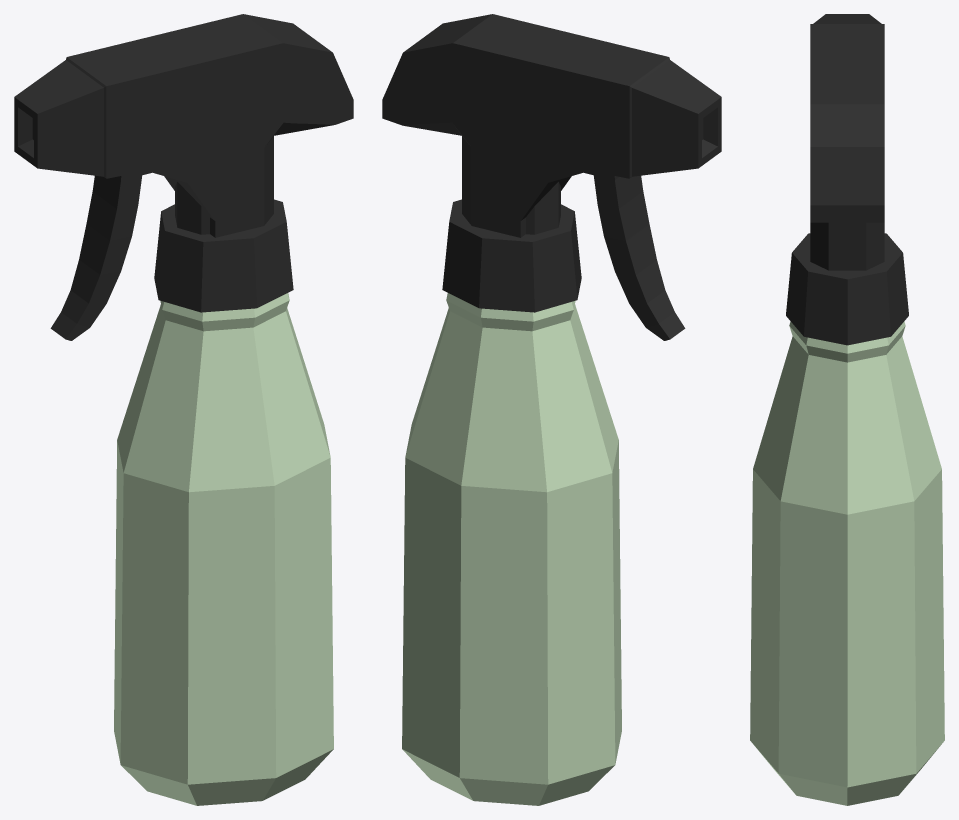
File: SPRAYCAN.fbx
The picture shows the model from 3 angles, left to right: view 1: azimuth 30°, elevation 25°; view 2: azimuth 150°, elevation 25°; view 3: azimuth 270°, elevation 25°; orthographic projection. The views are drawn at different scales.
Visible parts, largest first — view 1: SprayBottle, SprayBottle.001; view 2: SprayBottle, SprayBottle.001; view 3: SprayBottle.
Boxes of the visible parts, x1=… form: SprayBottle: x1=14, y1=14, x2=353, y2=805; SprayBottle.001: x1=50, y1=171, x2=151, y2=340; SprayBottle: x1=382, y1=14, x2=721, y2=805; SprayBottle.001: x1=584, y1=171, x2=685, y2=340; SprayBottle: x1=750, y1=14, x2=944, y2=805.
Size of the model in its own units: 95.48 by 218 by 56.12.
